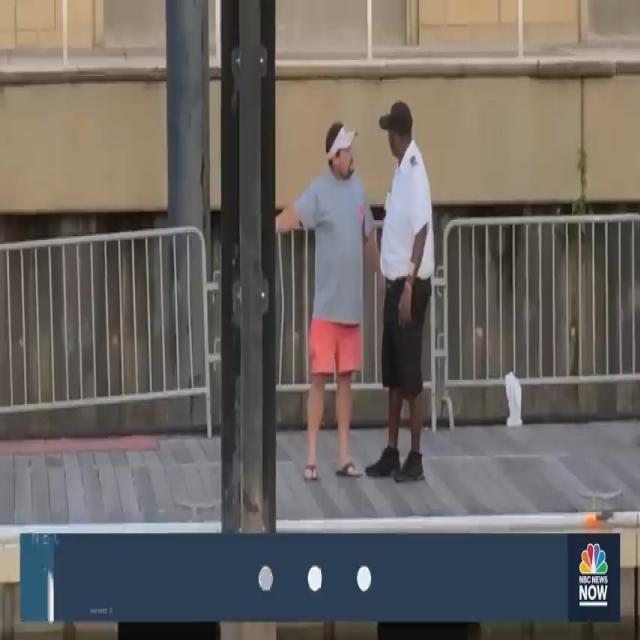non-fight: (278, 94, 440, 488)
